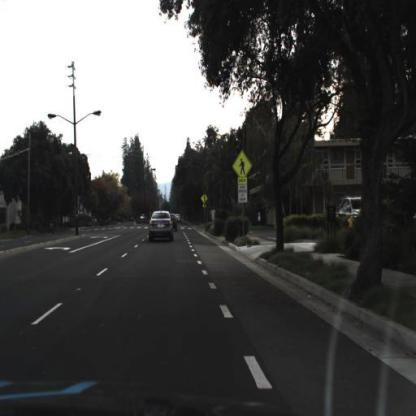car: (145, 208, 174, 245), (331, 194, 362, 220), (170, 209, 178, 236)
